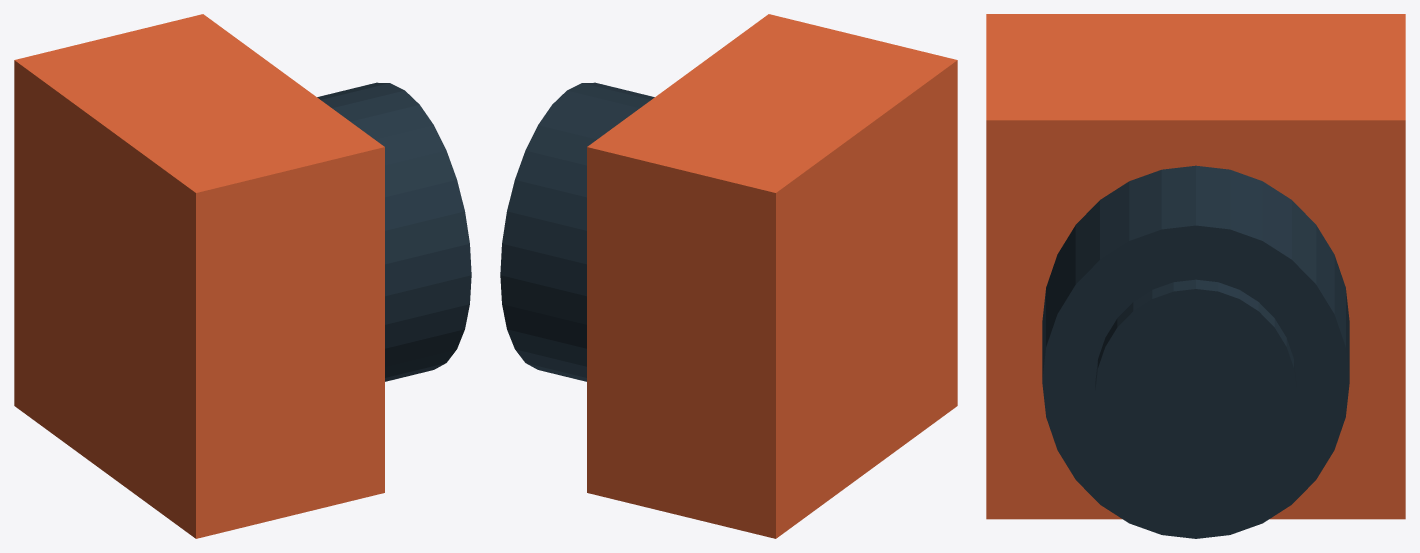
The model's file is MotionReady_Entry_Chime.obj.
3 views of the same model, side by side, from view 1: azimuth 30°, elevation 25°; view 2: azimuth 150°, elevation 25°; view 3: azimuth 270°, elevation 25° (orthographic). The views are drawn at different scales.
Parts seen in each view (by area): view 1: Buzzer_entry_chime, Buzzer_round_face; view 2: Buzzer_entry_chime, Buzzer_round_face; view 3: Buzzer_entry_chime, Buzzer_round_face, Buzzer_grille.
Part boxes in pixels (x1,y1,x2,y2): Buzzer_entry_chime: [14, 14, 384, 538]; Buzzer_round_face: [317, 82, 471, 381]; Buzzer_entry_chime: [587, 14, 957, 538]; Buzzer_round_face: [500, 82, 654, 381]; Buzzer_entry_chime: [986, 14, 1405, 519]; Buzzer_round_face: [1042, 165, 1349, 538]; Buzzer_grille: [1095, 279, 1296, 493].
Bounding box in the file's own units: 151 × 158 × 150.
